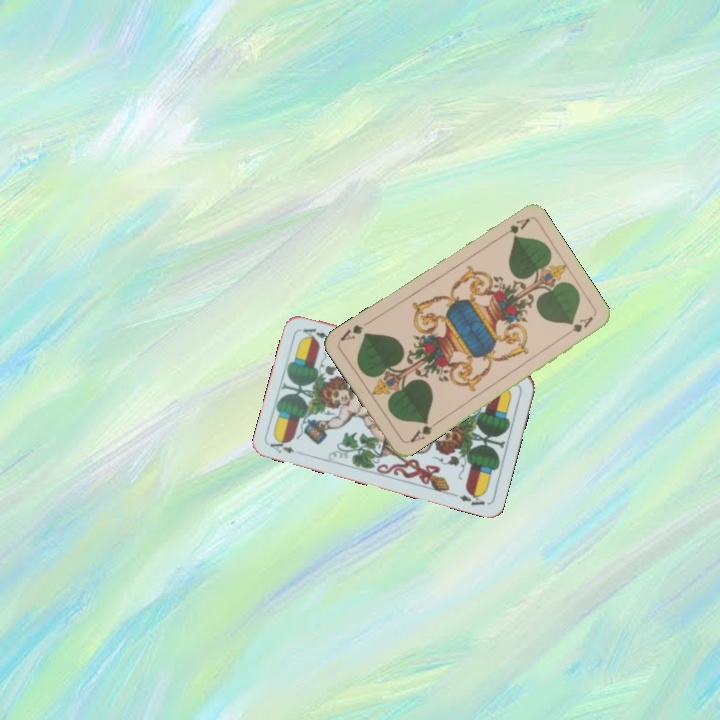EA: (266, 435, 297, 456)
GA: (404, 417, 440, 445), (505, 214, 532, 236)
